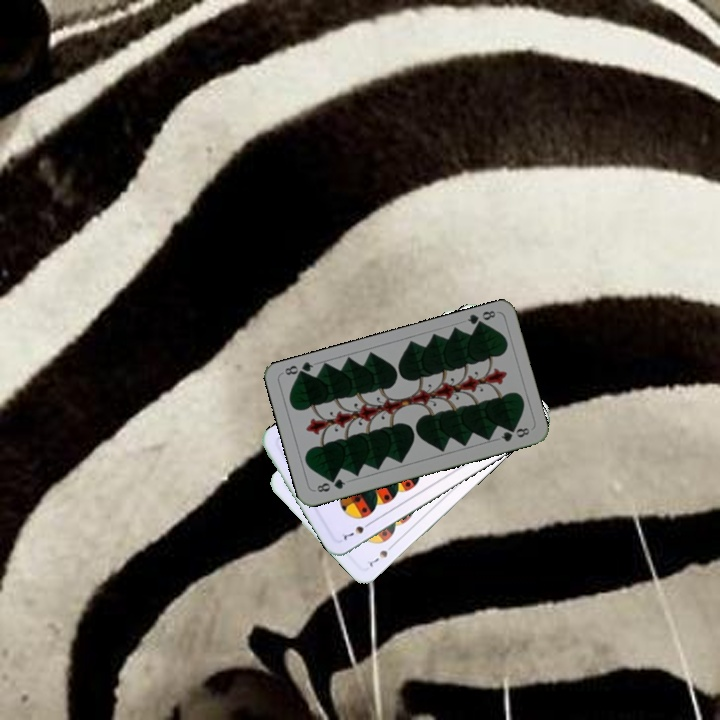G8: (463, 306, 498, 331), (313, 475, 348, 495)
S7: (365, 540, 397, 569), (338, 517, 375, 542)
